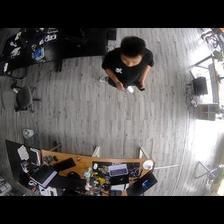normal: (100, 35, 155, 93)
